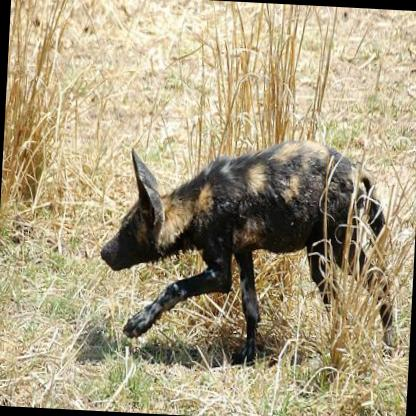African_hunting_dog: (93, 144, 400, 370)
